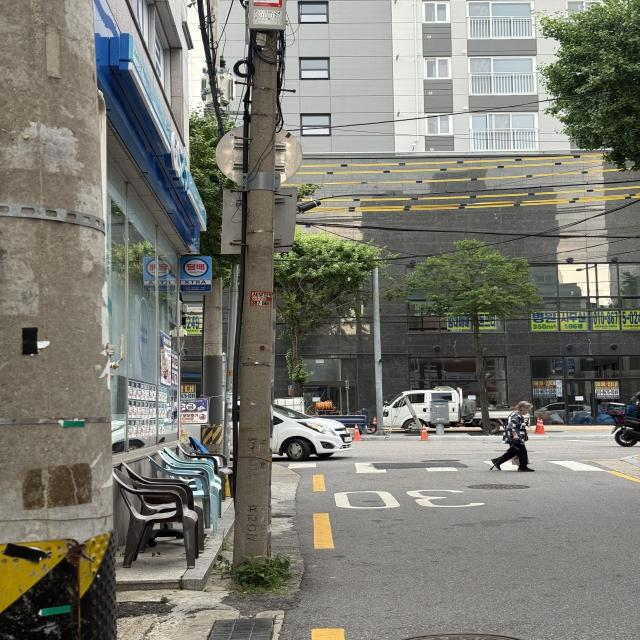car: (136, 386, 367, 468), (371, 379, 539, 440)
